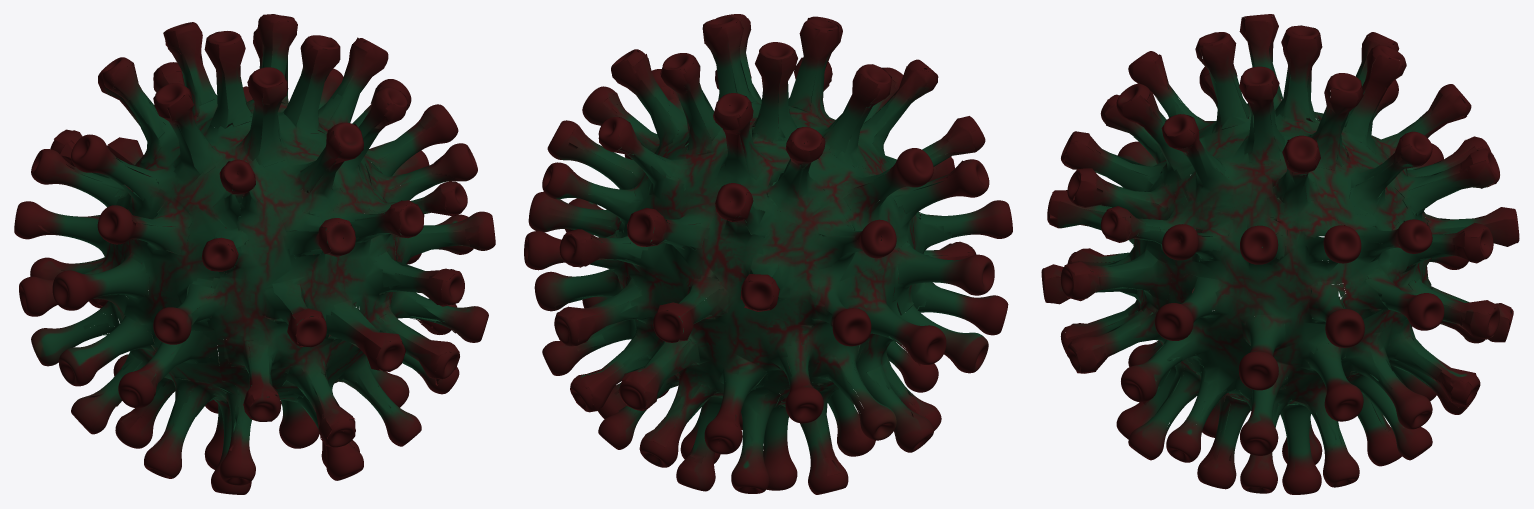
File: corona.glb
3 views of the same model, side by side, from view 1: azimuth 30°, elevation 25°; view 2: azimuth 150°, elevation 25°; view 3: azimuth 270°, elevation 25° (orthographic).
Parts seen in each view (by area): view 1: Object_3.001, Object_2.001; view 2: Object_3.001, Object_2.001; view 3: Object_3.001, Object_2.001.
Boxes of the visible parts, x1,y1,x2,y2 form: Object_3.001: (38,14,479,453); Object_2.001: (14,14,495,494); Object_3.001: (547,16,978,481); Object_2.001: (524,14,1012,494); Object_3.001: (1043,14,1517,477); Object_2.001: (1041,14,1519,494).
Bounding box in the file's own units: 1.38 × 1.38 × 1.38.
Materials: 1 (1 with a texture image).
